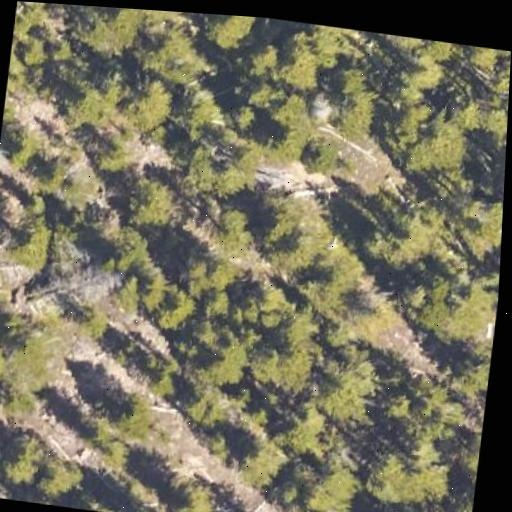tree-top: (356, 433, 460, 512), (410, 258, 500, 347), (304, 342, 391, 433), (392, 97, 482, 183), (0, 303, 76, 400), (247, 186, 334, 268), (297, 246, 374, 328), (319, 55, 387, 138), (4, 435, 86, 503), (382, 367, 453, 444), (371, 196, 440, 272), (115, 169, 184, 236), (116, 71, 181, 138), (96, 384, 161, 451), (251, 337, 320, 398), (185, 140, 253, 201), (10, 3, 71, 70), (270, 30, 334, 93), (228, 431, 291, 492), (232, 278, 296, 335), (451, 188, 504, 256), (0, 427, 56, 490), (442, 330, 493, 399), (68, 76, 124, 138), (72, 5, 140, 56), (199, 331, 256, 391), (273, 403, 334, 459), (7, 211, 58, 273), (144, 24, 198, 82), (185, 245, 241, 300), (53, 150, 104, 209), (100, 223, 157, 275), (394, 52, 447, 107), (197, 13, 264, 56), (208, 208, 259, 262), (175, 369, 222, 427), (302, 466, 360, 512), (263, 89, 314, 141), (150, 283, 198, 334), (296, 130, 346, 178), (164, 472, 223, 512), (86, 131, 135, 178), (180, 85, 226, 134), (239, 34, 285, 80), (65, 295, 112, 340), (451, 418, 483, 481), (11, 126, 51, 173), (2, 40, 23, 123), (282, 20, 345, 44), (355, 30, 426, 51), (461, 45, 504, 79), (128, 9, 186, 29), (478, 109, 508, 145), (422, 493, 473, 512), (0, 314, 13, 387), (365, 503, 429, 512), (496, 139, 507, 191), (493, 188, 504, 227), (38, 3, 91, 10), (0, 158, 7, 200)
